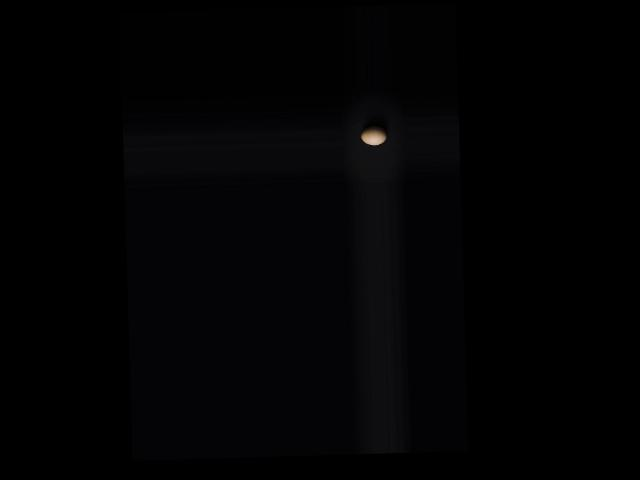egg: (360, 126, 387, 146)
